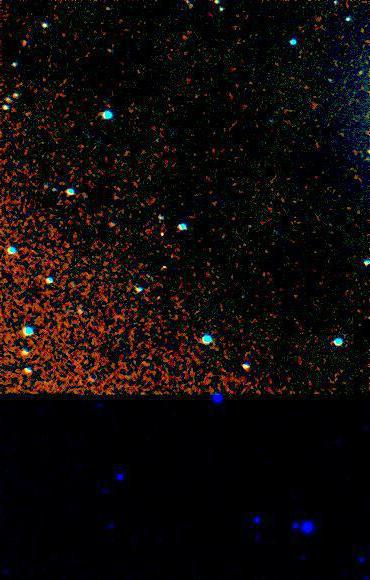star: (146, 218, 176, 248)
